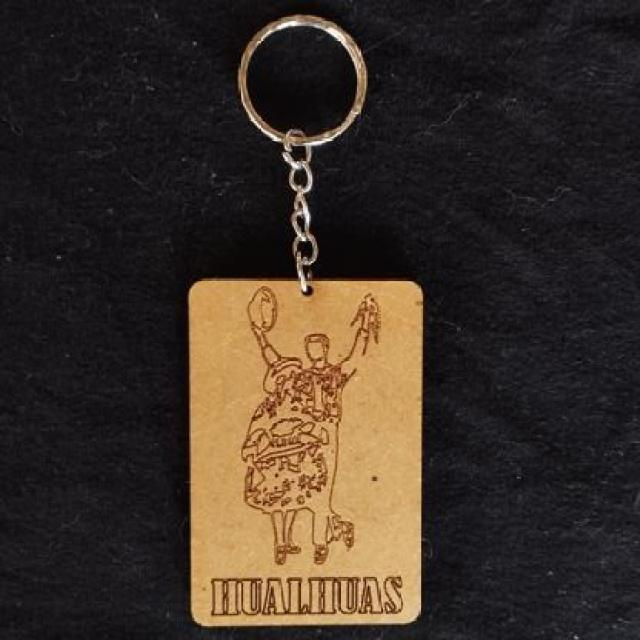Llavero: (238, 285, 380, 566)
